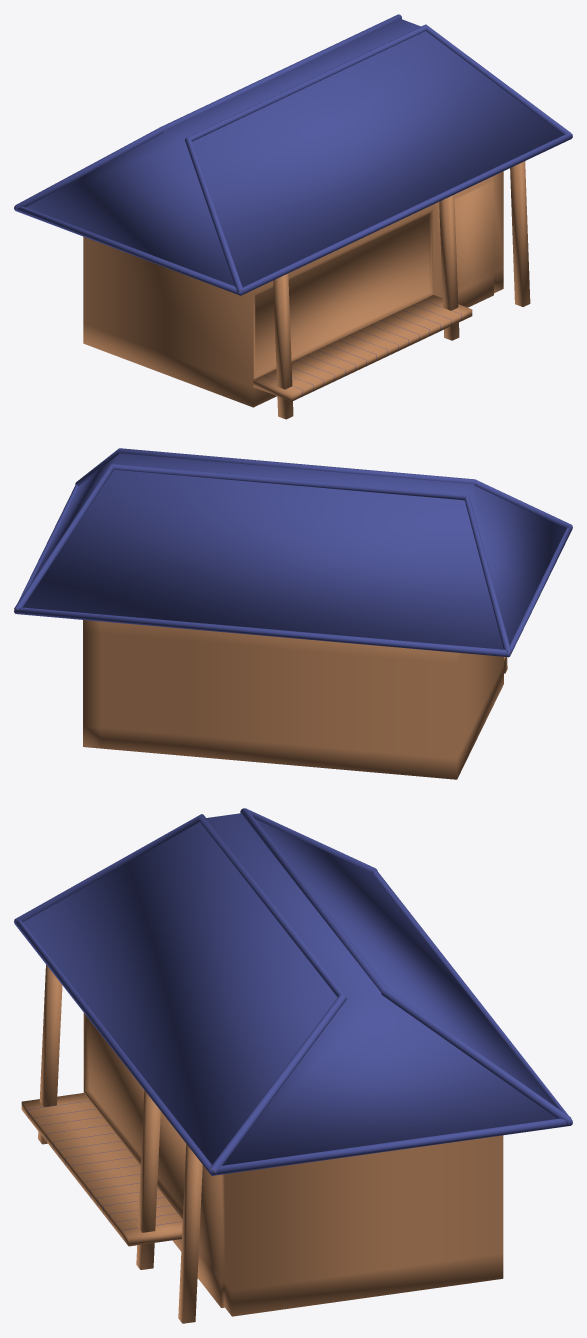
File: 057_古民家2006.glb
3 renders of one model, top to bottom at view 1: azimuth 30°, elevation 25°; view 2: azimuth 150°, elevation 25°; view 3: azimuth 270°, elevation 25°, orthographic. The views are drawn at different scales.
Parts seen in each view (by area): view 1: 立方体095_3, 立方体095, 立方体095_1, 立方体095_2, 立方体095_4; view 2: 立方体095_3, 立方体095; view 3: 立方体095_3, 立方体095, 立方体095_1, 立方体095_2, 立方体095_4.
Part boxes in pixels (x1,y1,x2,y2): 立方体095_3: (14,14,572,295); 立方体095: (83,171,503,407); 立方体095_1: (255,181,493,373); 立方体095_2: (273,161,530,419); 立方体095_4: (264,300,461,396); 立方体095_3: (14,448,572,657); 立方体095: (14,608,511,779); 立方体095_3: (14,808,572,1175); 立方体095: (21,1013,503,1316); 立方体095_1: (89,1020,224,1307); 立方体095_2: (38,964,202,1323); 立方体095_4: (28,1101,181,1229).
Bounding box in the file's own units: 5.07 × 2.38 × 3.97.
